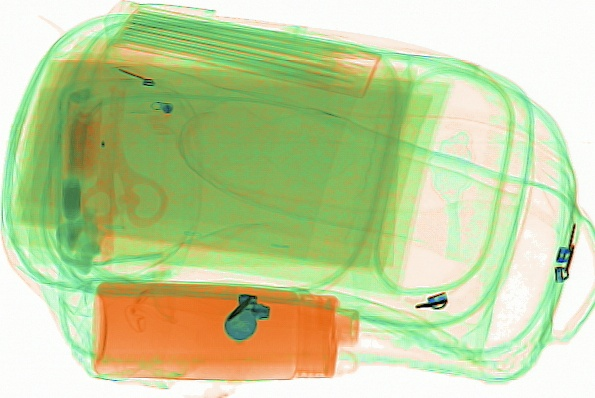scissors: (77, 84, 168, 228)
